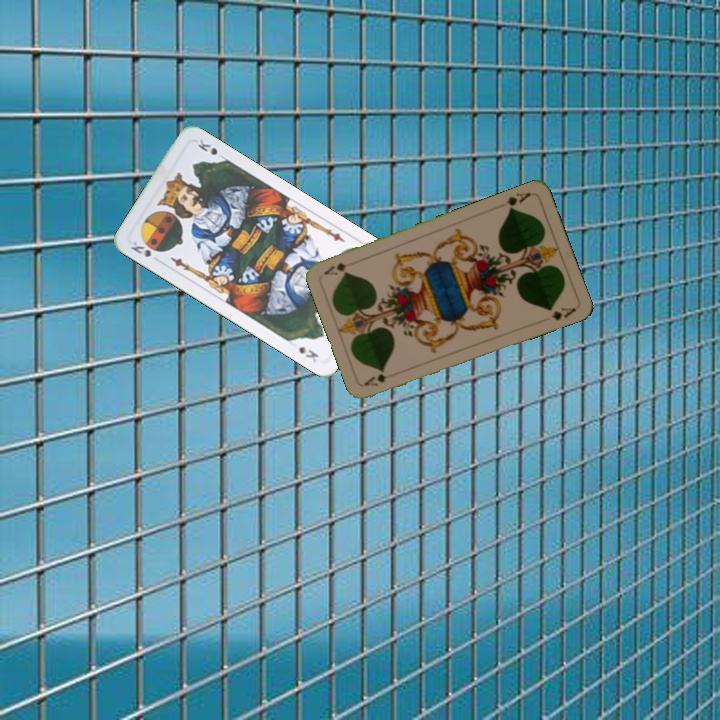GA: (360, 368, 400, 389), (502, 188, 533, 213)
SK: (126, 237, 154, 260)
